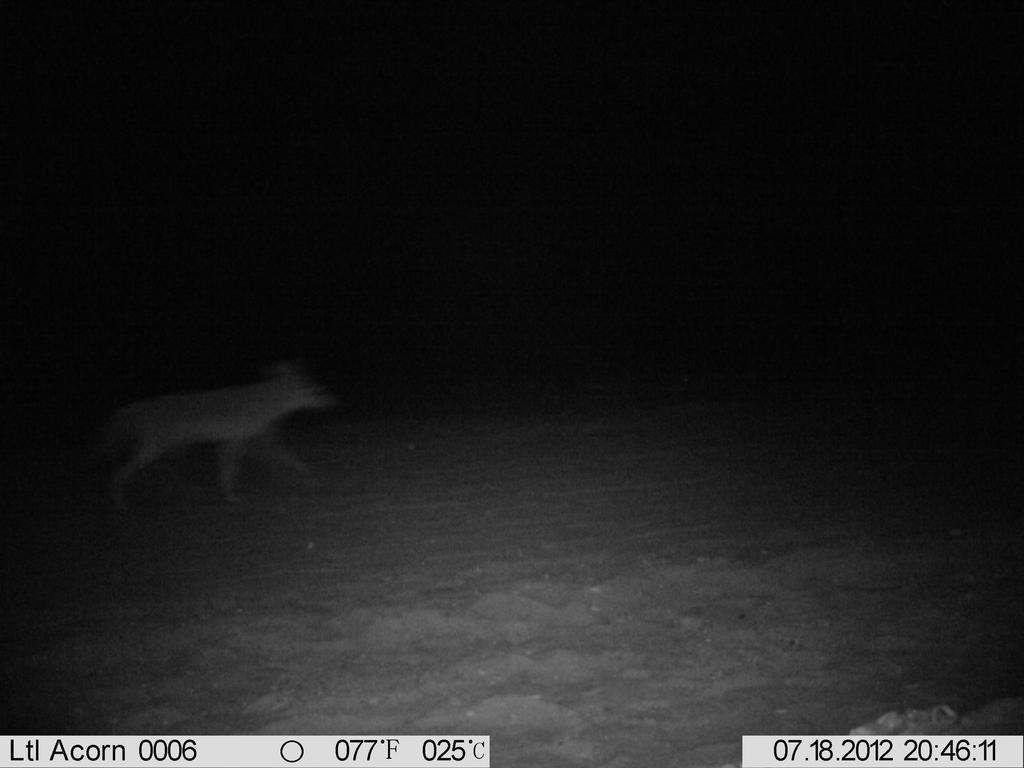coyote: (80, 331, 343, 538)
